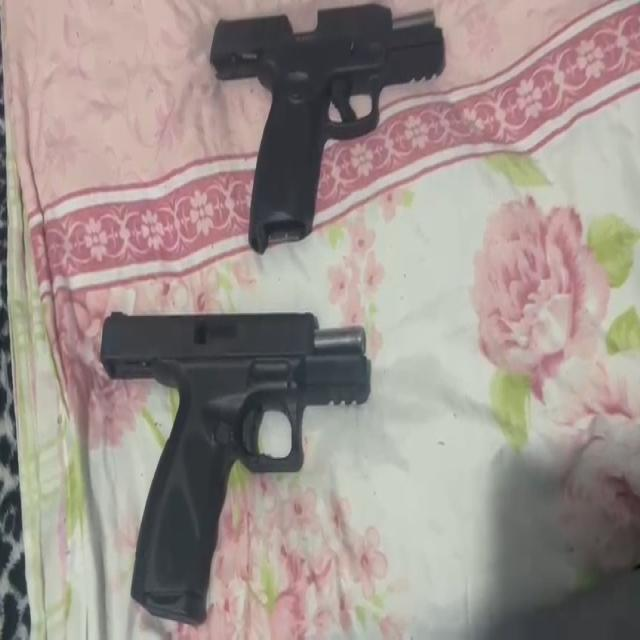guns: (98, 303, 374, 628), (210, 0, 448, 261)
